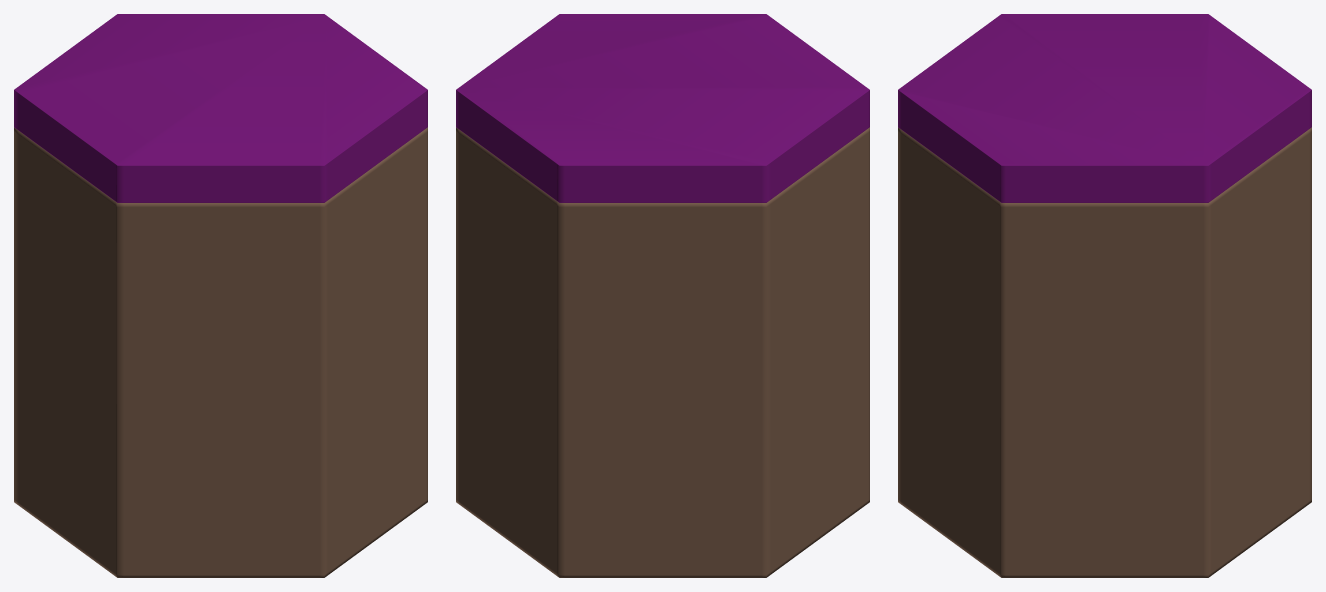
File: player_spawn.fbx
3 renders of one model, left to right at view 1: azimuth 30°, elevation 25°; view 2: azimuth 150°, elevation 25°; view 3: azimuth 270°, elevation 25°, orthographic.
Parts seen in each view (by area): view 1: Cylinder, Cylinder.001; view 2: Cylinder, Cylinder.001; view 3: Cylinder, Cylinder.001.
Part boxes in pixels (left/top/right/bottom): Cylinder: left=14, top=127, right=427, bottom=577; Cylinder.001: left=14, top=14, right=427, bottom=202; Cylinder: left=456, top=127, right=869, bottom=577; Cylinder.001: left=456, top=14, right=869, bottom=202; Cylinder: left=898, top=127, right=1311, bottom=577; Cylinder.001: left=898, top=14, right=1311, bottom=202.
Bounding box in the file's own units: 173 × 220 × 200.
